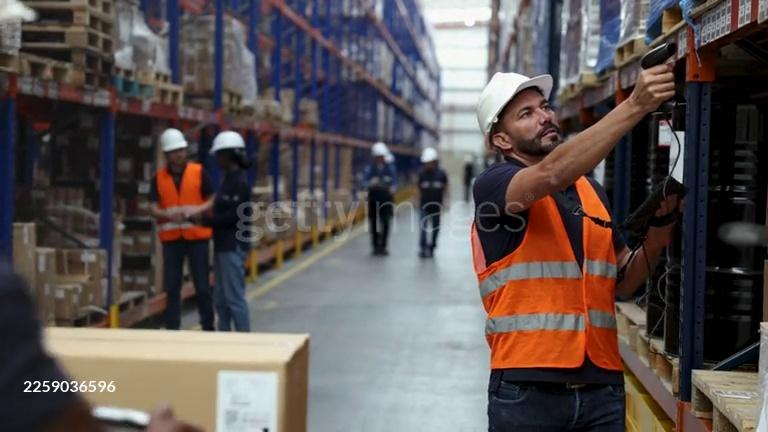helmet: (478, 72, 554, 150), (210, 131, 246, 154), (158, 128, 187, 152), (421, 149, 439, 163), (372, 142, 389, 156)
person: (466, 58, 685, 428), (137, 129, 218, 330), (201, 131, 254, 331), (358, 142, 401, 256), (411, 148, 449, 259)
